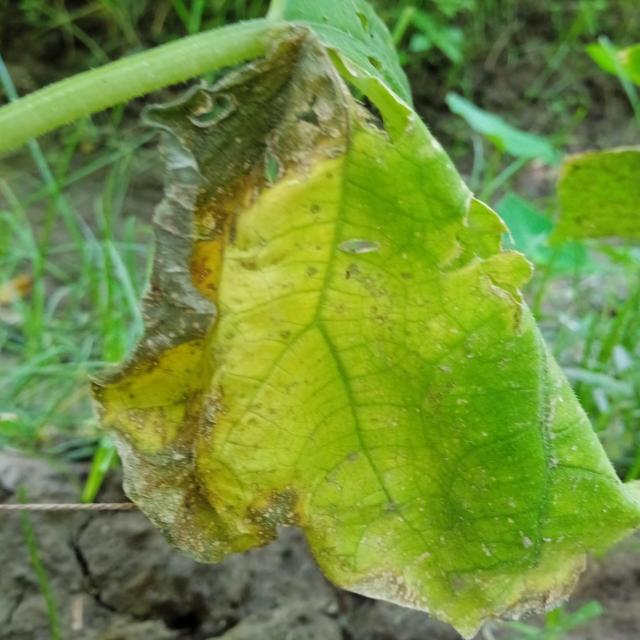cucumber_gummy: (74, 13, 640, 640)
